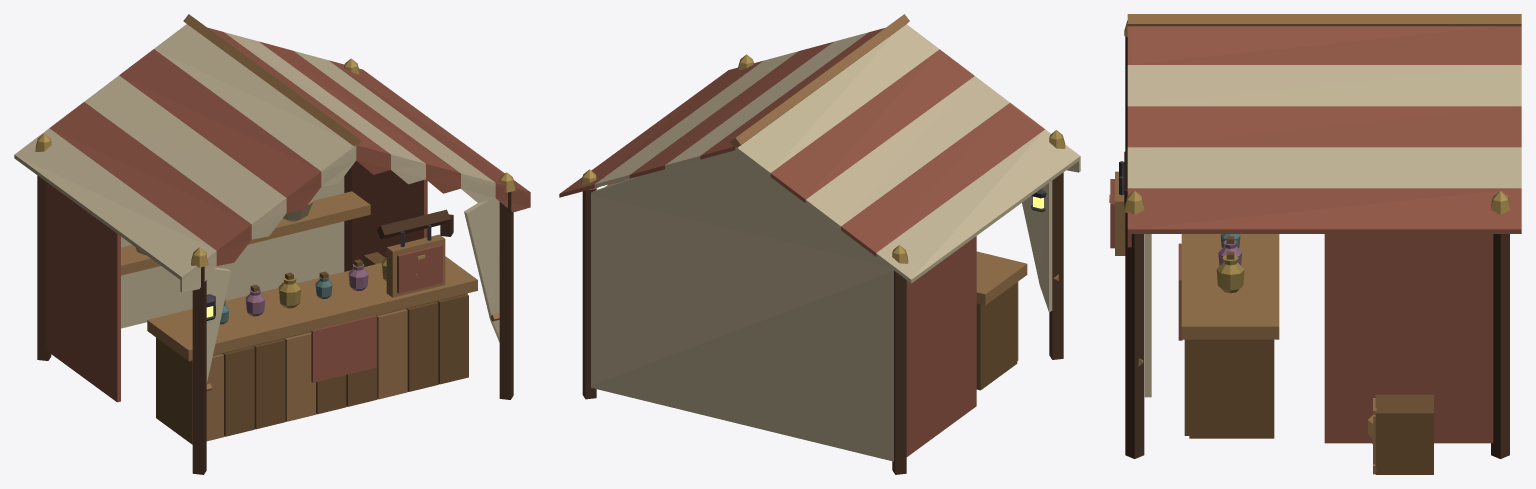
The model's file is town_merchant_c.glb.
3 views of the same model, side by side, from view 1: azimuth 30°, elevation 25°; view 2: azimuth 150°, elevation 25°; view 3: azimuth 270°, elevation 25° (orthographic). The views are drawn at different scales.
Visible parts, largest first — view 1: town_merchant_c; view 2: town_merchant_c; view 3: town_merchant_c.
Boxes of the visible parts, <box> form: town_merchant_c: <box>14,14,530,474</box>; town_merchant_c: <box>559,14,1080,474</box>; town_merchant_c: <box>1109,14,1521,474</box>.
Size of the model in its own units: 3.47 by 2.76 by 2.91.
